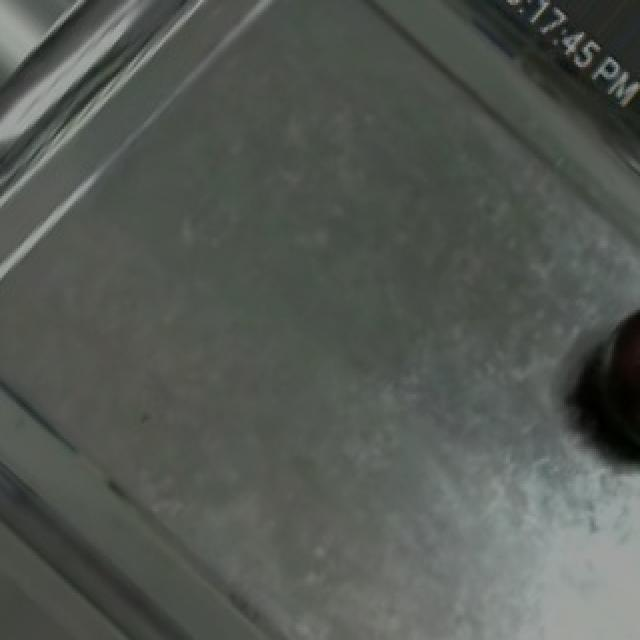Fruit: (584, 285, 640, 442)
